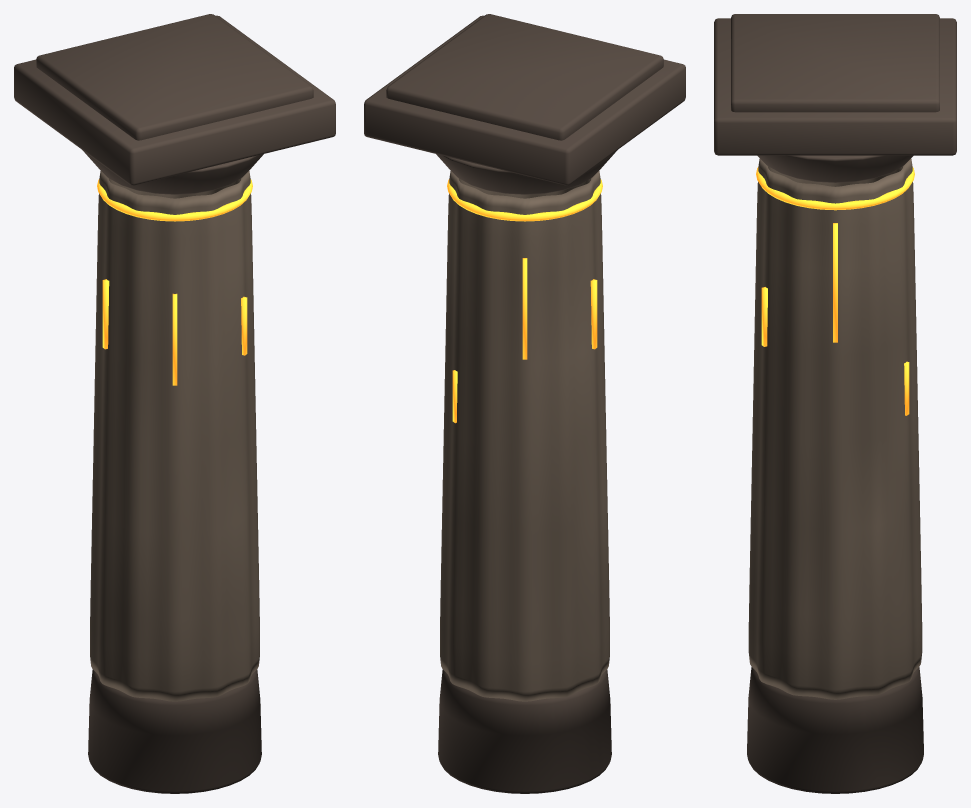
The model's file is pillar.glb.
3 renders of one model, left to right at view 1: azimuth 30°, elevation 25°; view 2: azimuth 150°, elevation 25°; view 3: azimuth 270°, elevation 25°, orthographic.
Visible parts, largest first — view 1: pillar_shaft, pillar_cap, pillar_base, pillar_rune; view 2: pillar_shaft, pillar_cap, pillar_base, pillar_rune; view 3: pillar_shaft, pillar_cap, pillar_base, pillar_rune.
Part boxes in pixels (x1=…): pillar_shaft: x1=90, y1=171, x2=259, y2=701; pillar_cap: x1=14, y1=14, x2=335, y2=194; pillar_base: x1=88, y1=669, x2=261, y2=793; pillar_rune: x1=97, y1=179, x2=252, y2=385; pillar_shaft: x1=440, y1=171, x2=609, y2=701; pillar_cap: x1=364, y1=14, x2=685, y2=194; pillar_base: x1=438, y1=669, x2=611, y2=793; pillar_rune: x1=447, y1=179, x2=602, y2=423; pillar_shaft: x1=748, y1=158, x2=922, y2=699; pillar_cap: x1=714, y1=14, x2=956, y2=182; pillar_base: x1=747, y1=667, x2=923, y2=793; pillar_rune: x1=756, y1=167, x2=914, y2=415.
Size of the model in its own units: 2.9 by 9.25 by 2.9.
